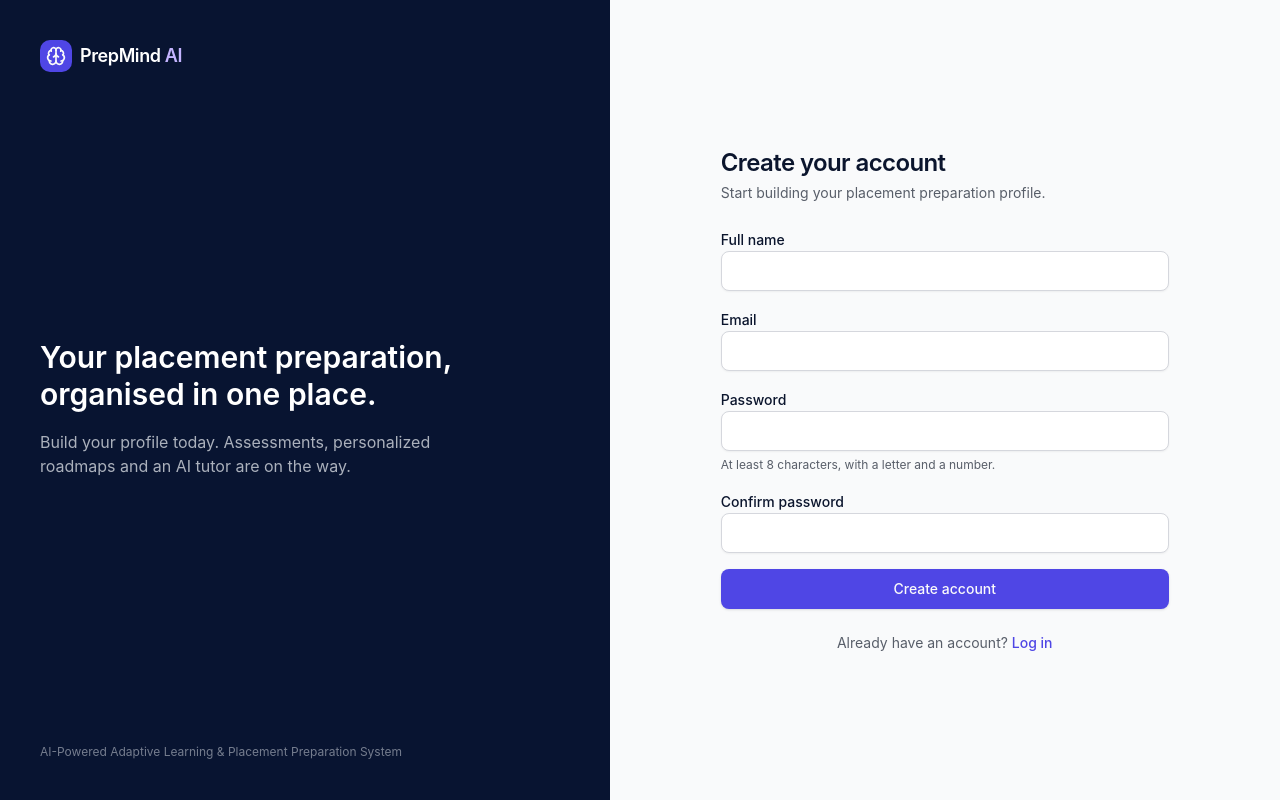
Login & Registration Form Validation › validates registration form mismatch and short password
The width and height of the screenshot is (1280, 800).
Click the button "Create account" at (945, 589), box [721, 569, 1169, 609]
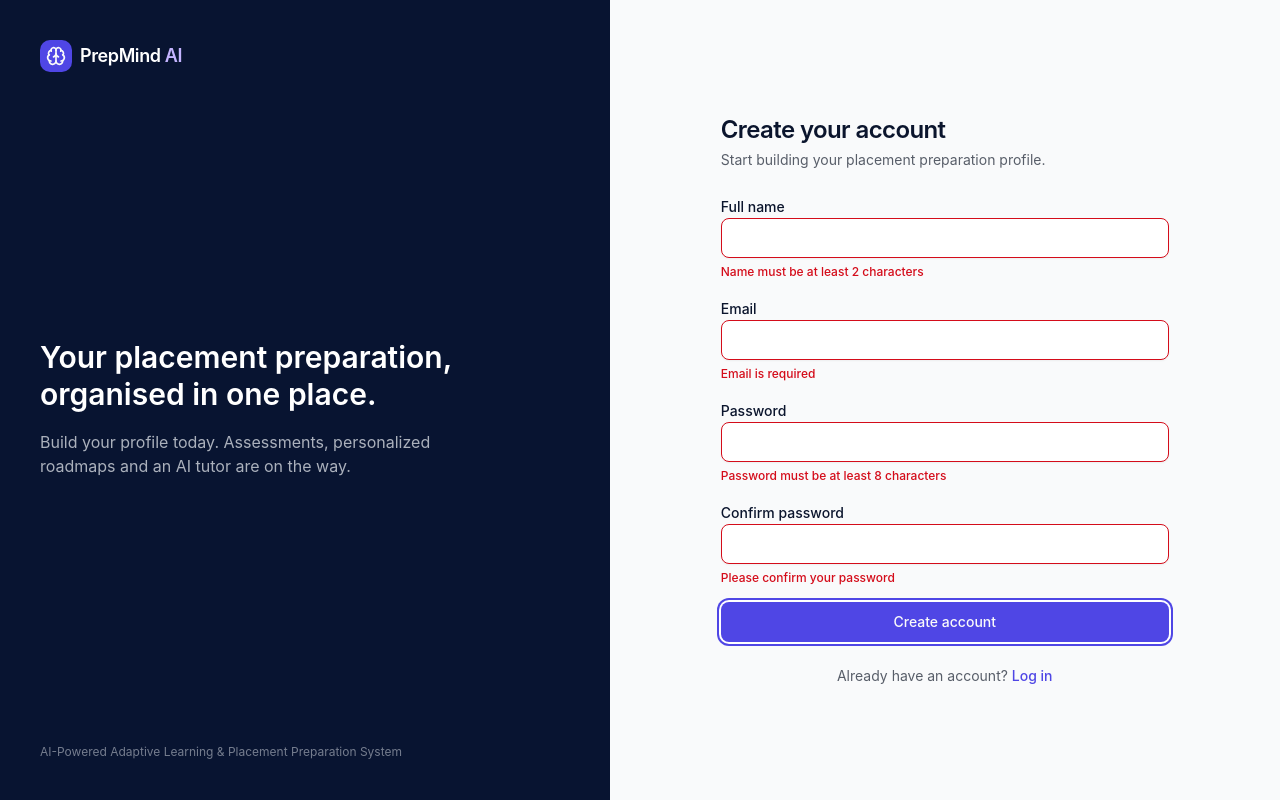
Expected: the text "Name must be at least 2 characters" is shown, [721, 264, 924, 279]
Expected: the text "Email is required" is shown, [721, 366, 815, 381]
Type "Divyam" into the field labelled "Full name" at (945, 238), box [721, 218, 1169, 258]
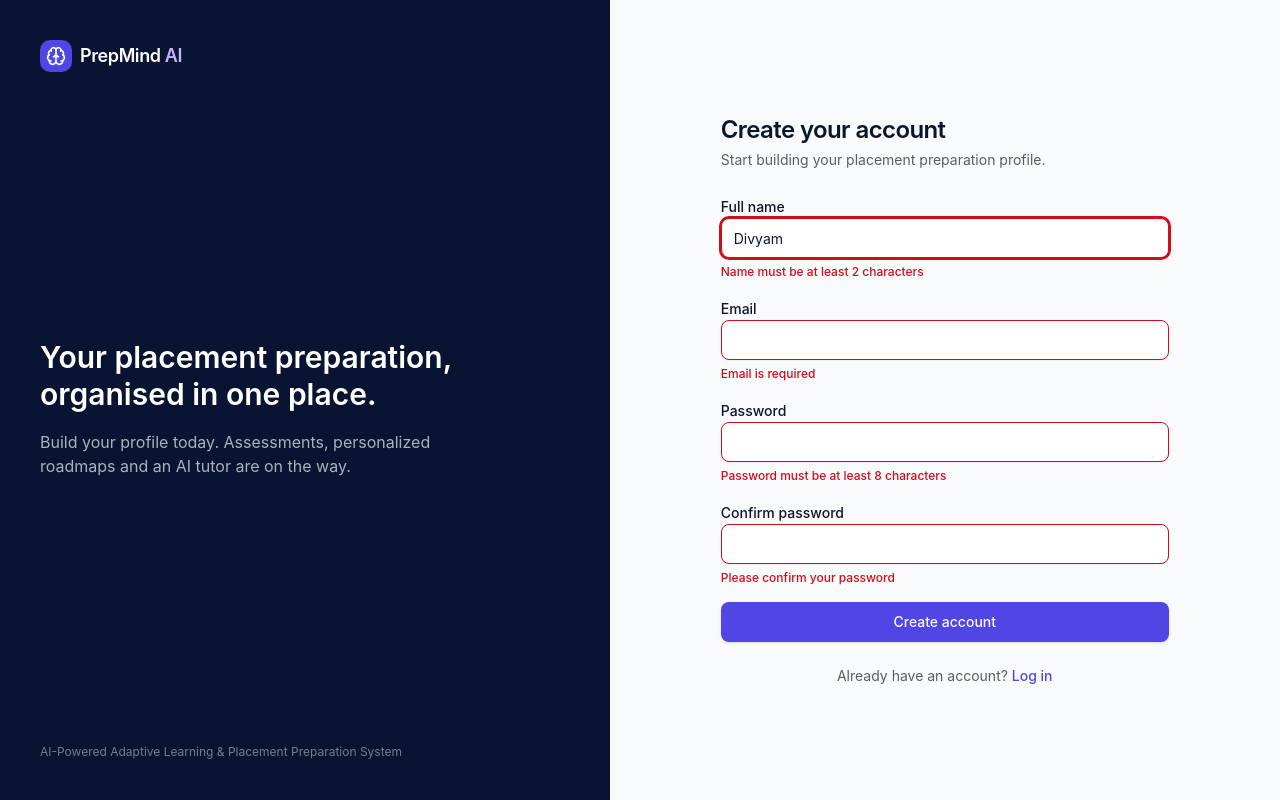
Type "divyam@example.com" into the field labelled "Email" at (945, 340), box [721, 320, 1169, 360]
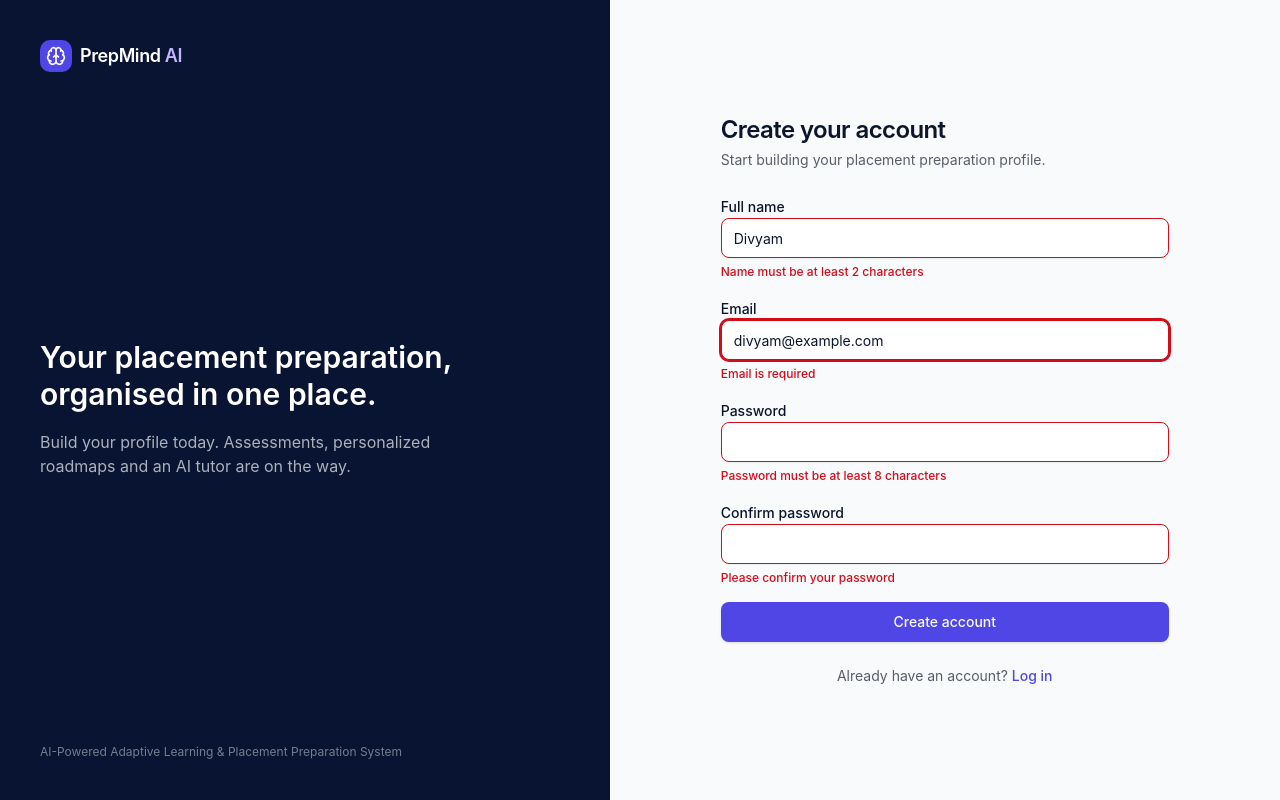
Type "Short1" into the password field labelled "Password" at (945, 442), box [721, 422, 1169, 462]
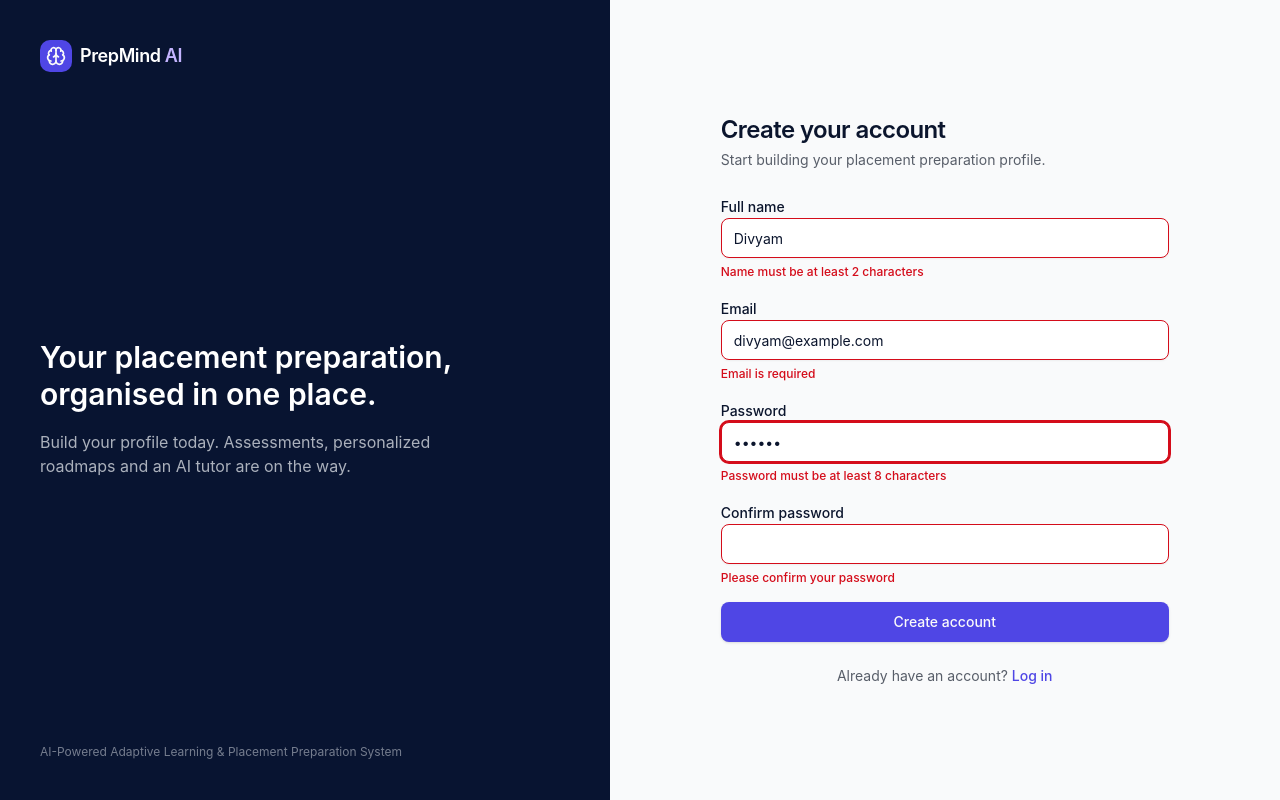
Type "Mismatch123" into the password field labelled "Confirm password" at (945, 544), box [721, 524, 1169, 564]
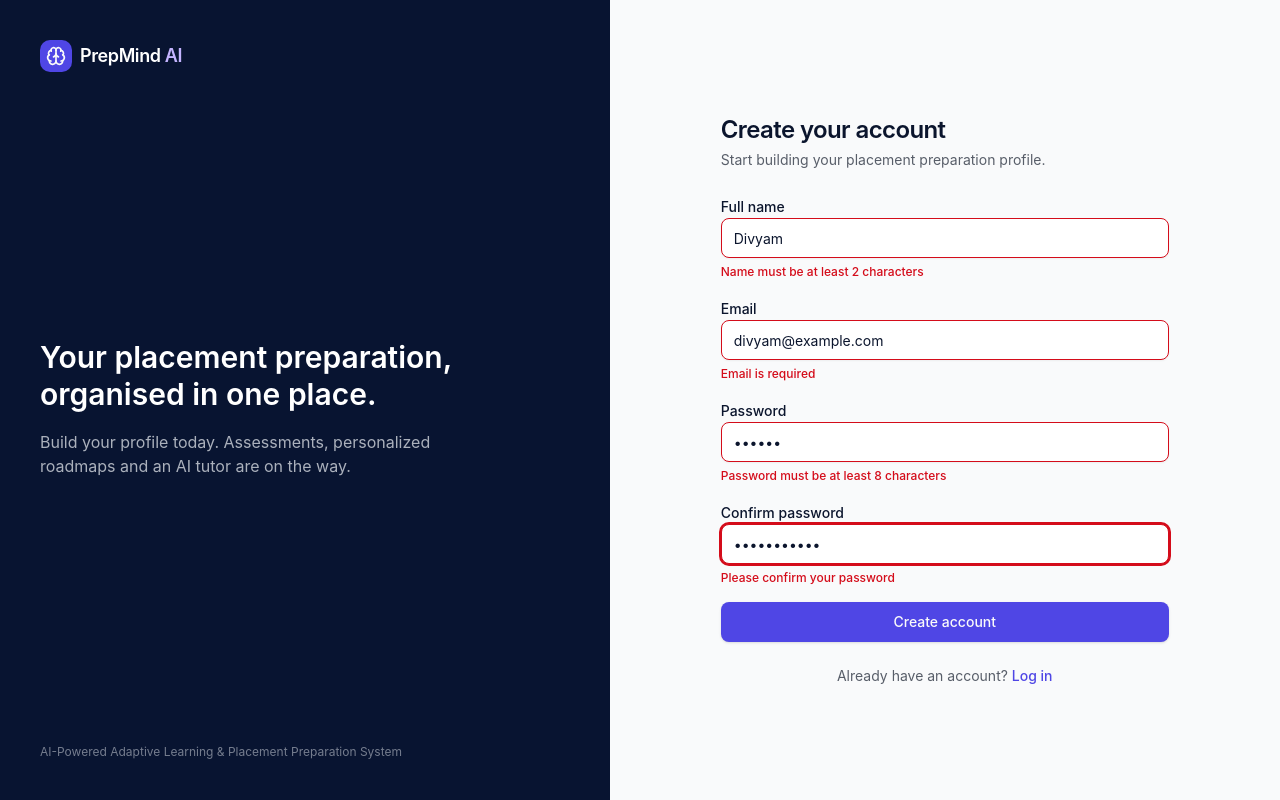
Click the button "Create account" at (945, 622), box [721, 602, 1169, 642]
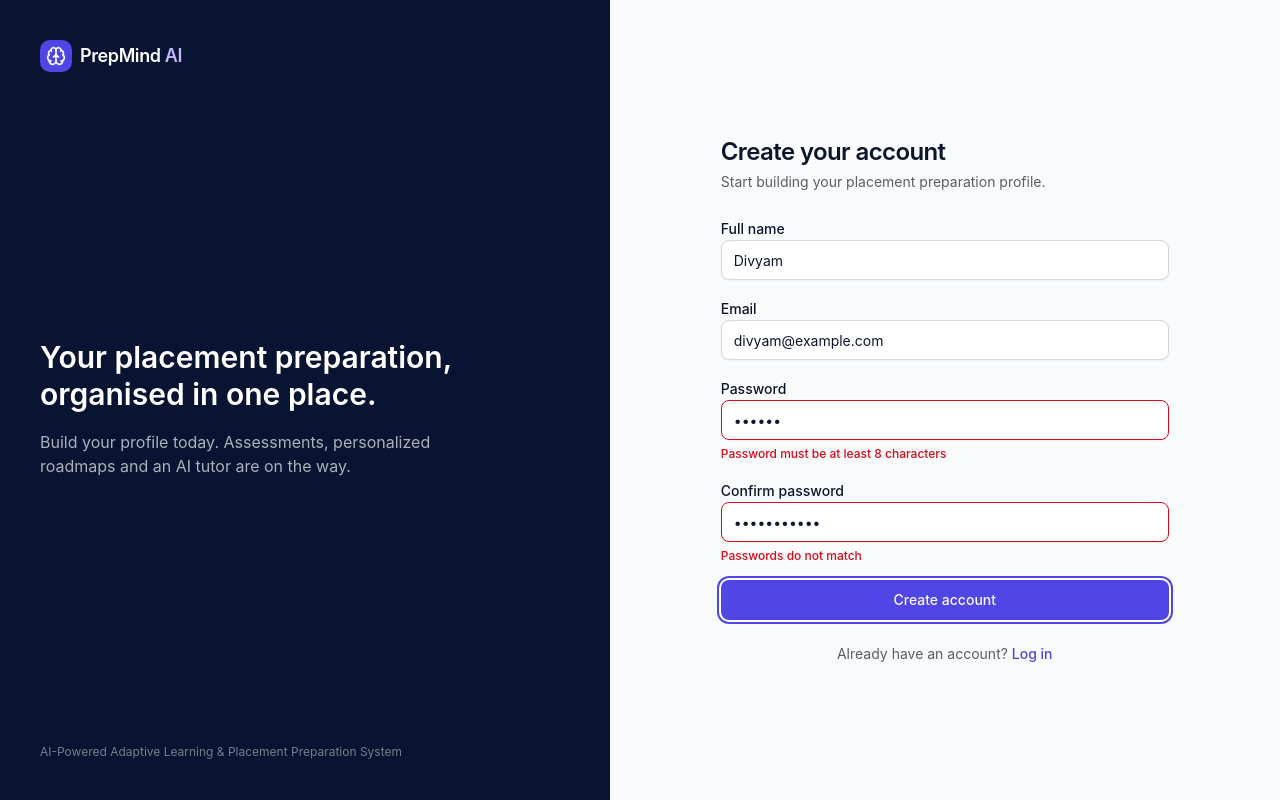
Expected: the text "Password must be at least 8 characters" is shown, [721, 446, 946, 461]
Expected: the text "Passwords do not match" is shown, [721, 548, 862, 563]
